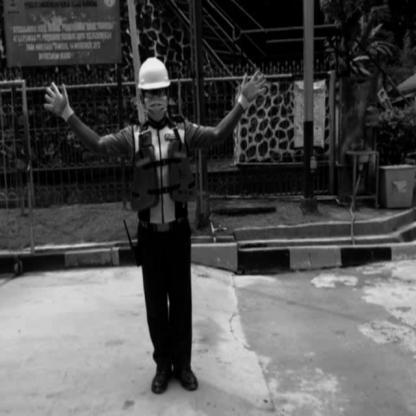boots: (147, 352, 174, 394), (174, 352, 199, 394)
gloves: (234, 68, 272, 111), (41, 80, 76, 121)
goggles: (139, 86, 170, 98)
helmet: (136, 56, 172, 90)
mask: (139, 95, 172, 124)
vest: (129, 142, 199, 210)
